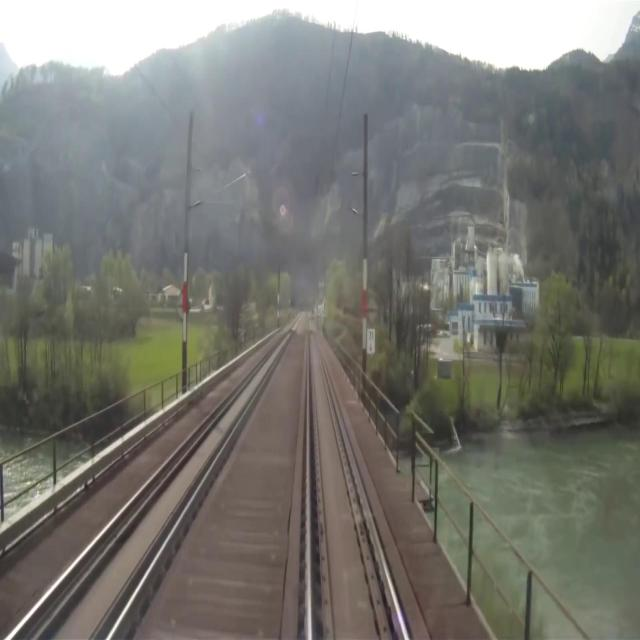rail-track: (11, 320, 298, 639), (308, 313, 405, 639)
